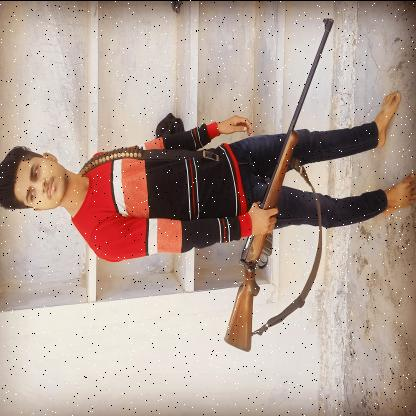rifle: (222, 15, 336, 353)
